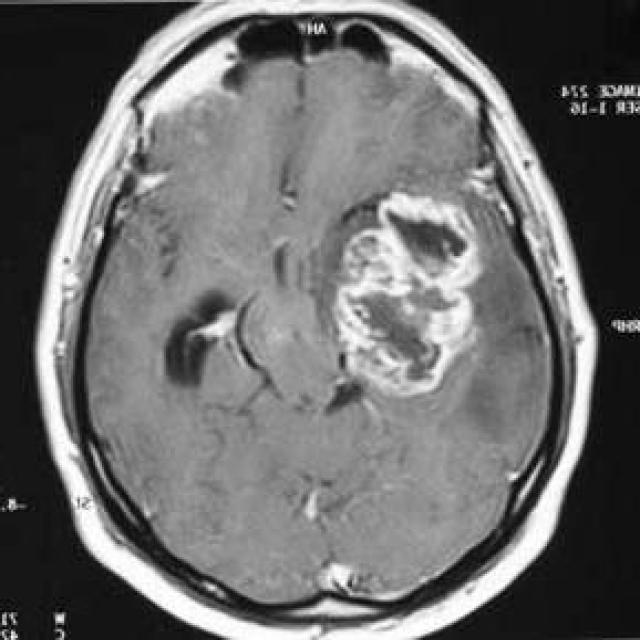Tumor-Cell: (302, 158, 490, 385)
